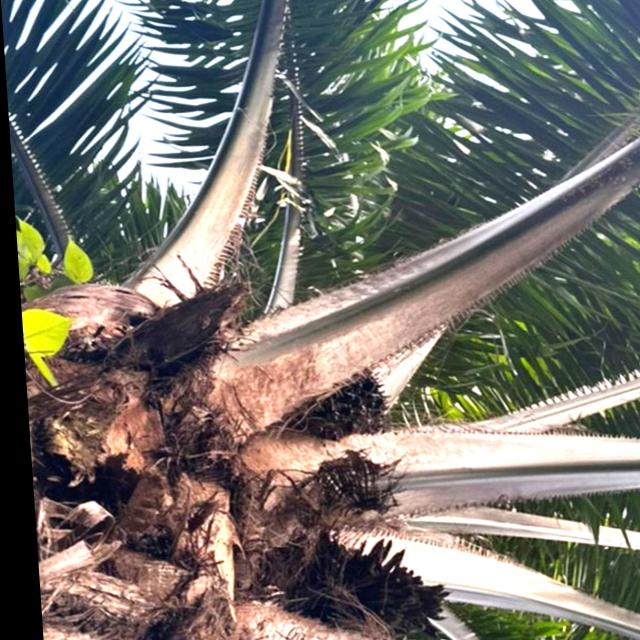unripe: (286, 370, 390, 440)
